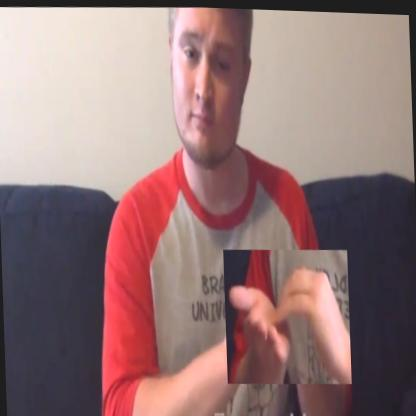ExcuseMe: (224, 244, 352, 386)
